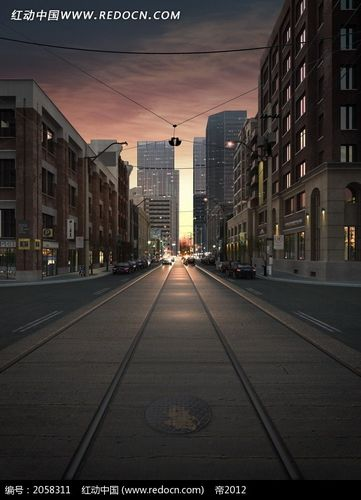buildings: (216, 28, 354, 291), (3, 84, 128, 280), (130, 121, 199, 265), (198, 106, 251, 266)
